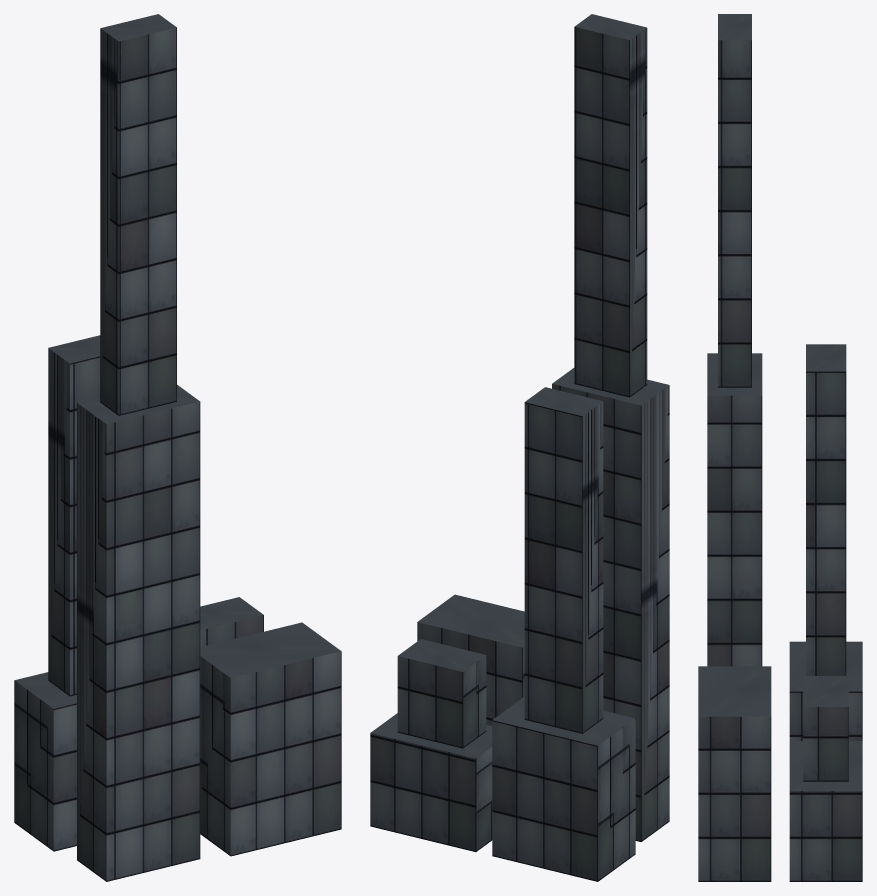
Rendered from block_29.obj.
3 renders of one model, left to right at view 1: azimuth 30°, elevation 25°; view 2: azimuth 150°, elevation 25°; view 3: azimuth 270°, elevation 25°, orthographic. The views are drawn at different scales.
Visible parts, largest first — view 1: b1, b3, b0, b2; view 2: b1, b0, b2, b3; view 3: b1, b0, b3, b2.
Part boxes in pixels (x1,y1,x2,y2): b1: (77, 14, 200, 881); b3: (200, 622, 341, 856); b0: (14, 335, 100, 851); b2: (200, 597, 263, 646); b1: (552, 14, 669, 841); b0: (492, 387, 635, 881); b2: (370, 639, 492, 851); b3: (417, 594, 524, 725); b1: (707, 14, 762, 666); b0: (789, 344, 862, 740); b3: (698, 666, 771, 881); b2: (789, 676, 862, 881).
Size of the model in its own units: 4.2 by 14 by 2.7.
